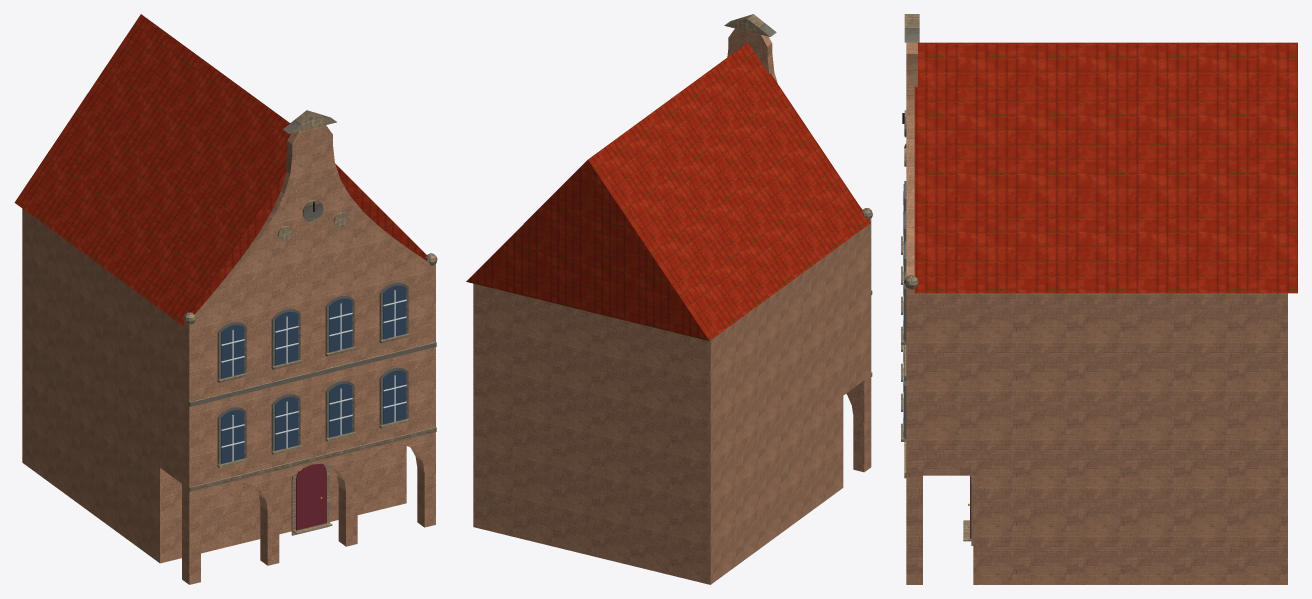
File: hanseatica_w10_2.gltf
3 views of the same model, side by side, from view 1: azimuth 30°, elevation 25°; view 2: azimuth 150°, elevation 25°; view 3: azimuth 270°, elevation 25° (orthographic). The views are drawn at different scales.
Visible parts, largest first — view 1: hanseatica_w10_2; view 2: hanseatica_w10_2; view 3: hanseatica_w10_2.
Part boxes in pixels (x1,y1,x2,y2): hanseatica_w10_2: [14, 14, 437, 584]; hanseatica_w10_2: [466, 14, 872, 584]; hanseatica_w10_2: [901, 14, 1297, 584].
Size of what is drawn, in the model's own units: 9.96 by 16.7 by 11.86.
Materials: 8 (4 with a texture image).
